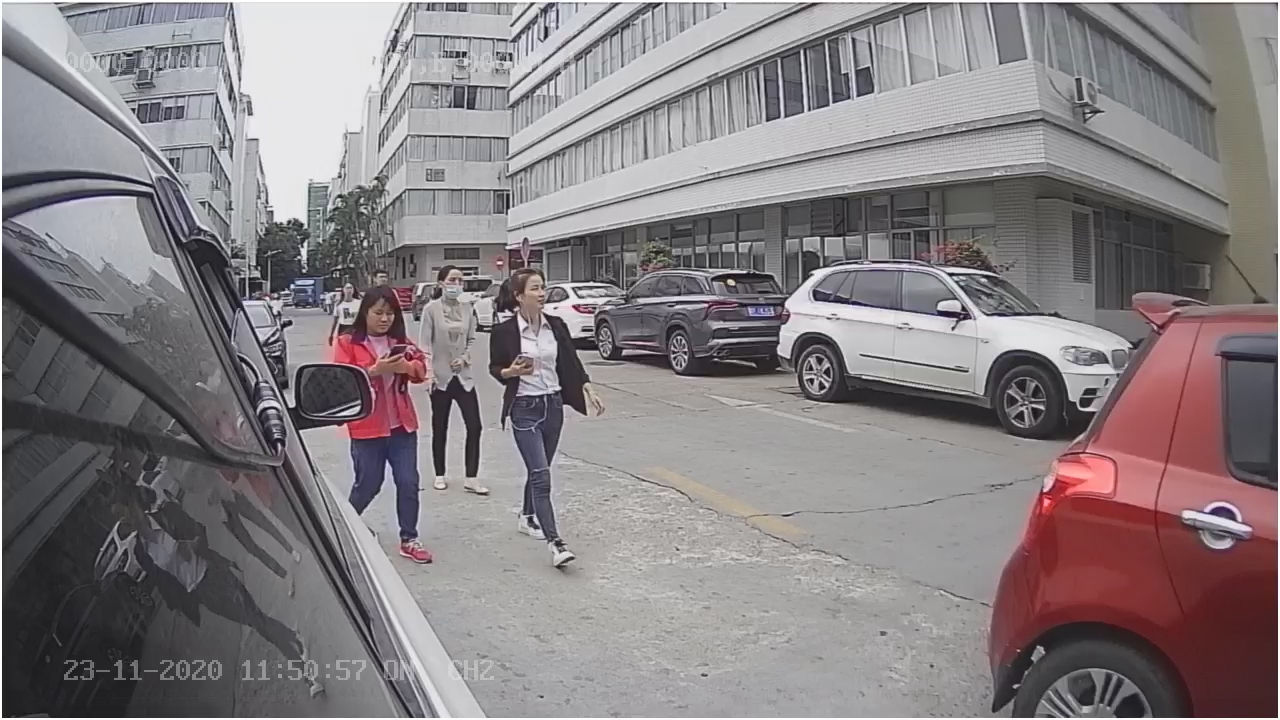person: (493, 266, 606, 573)
